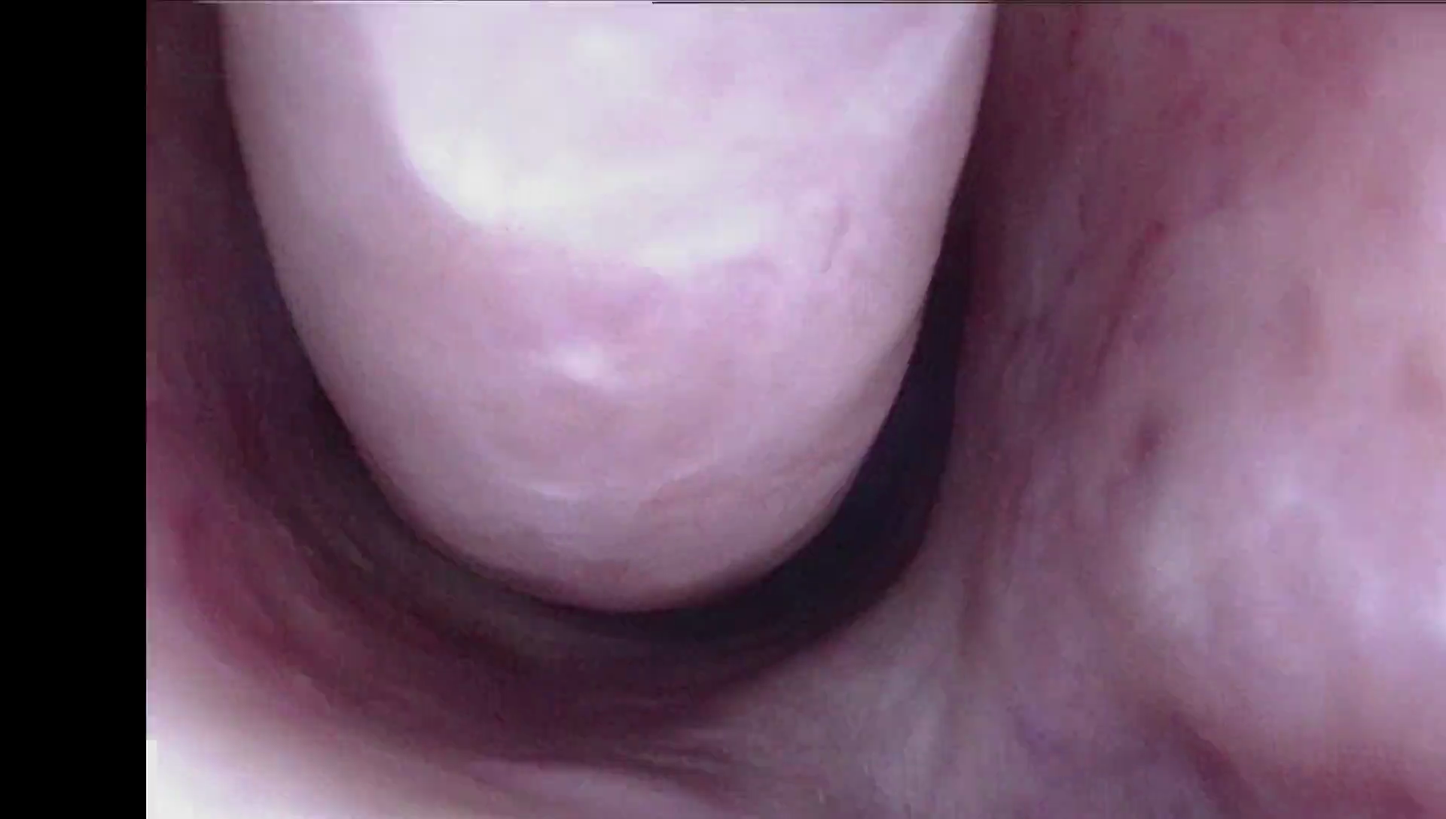close_wall: (1110, 63, 1446, 767), (319, 0, 913, 322), (155, 671, 441, 819)
next: (514, 456, 970, 681), (840, 156, 996, 709), (267, 354, 383, 477)
